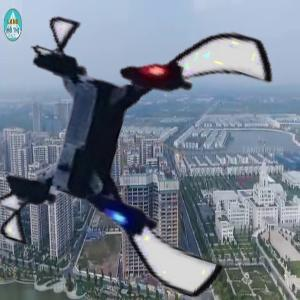drone: (2, 7, 275, 280)
